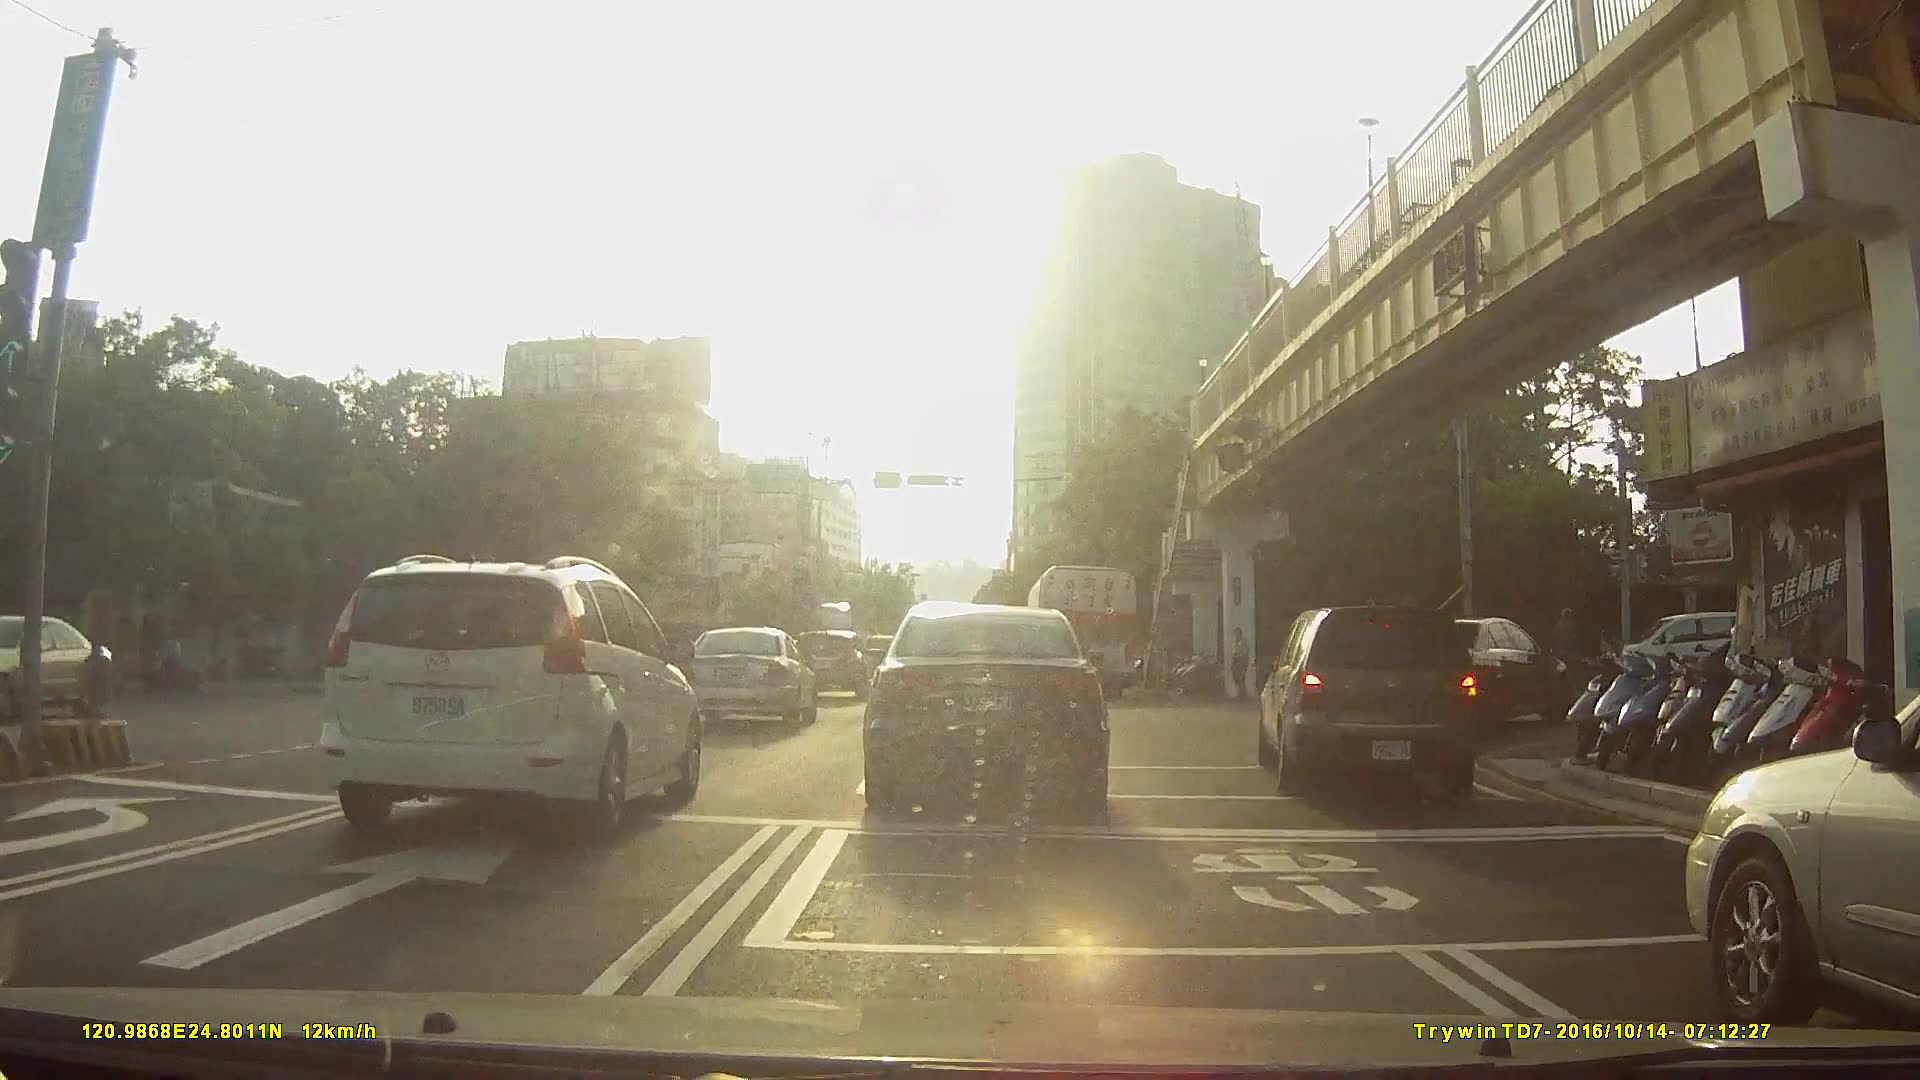pedestrian: (1229, 627, 1257, 702)
vehicle: (317, 554, 704, 842), (1692, 703, 1920, 1028), (865, 594, 1113, 818), (1251, 600, 1494, 805), (1432, 616, 1602, 738), (1027, 562, 1140, 701), (685, 626, 819, 734), (1, 614, 121, 722), (793, 627, 872, 702)
